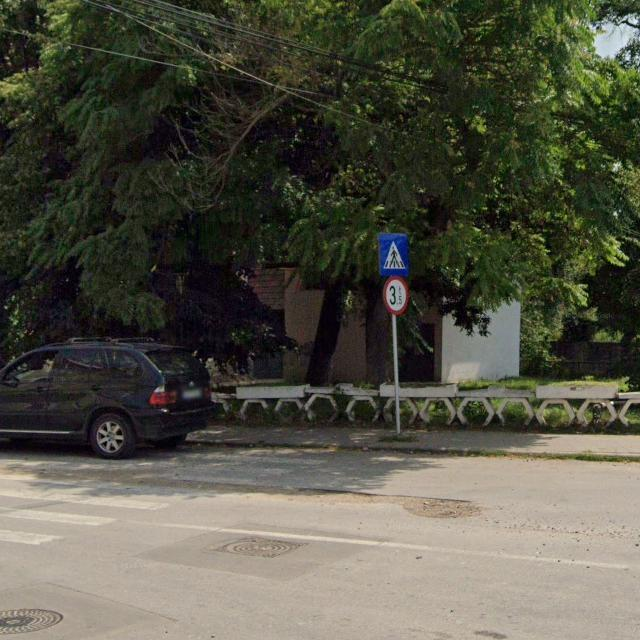info_crosswalk: (379, 232, 410, 276)
